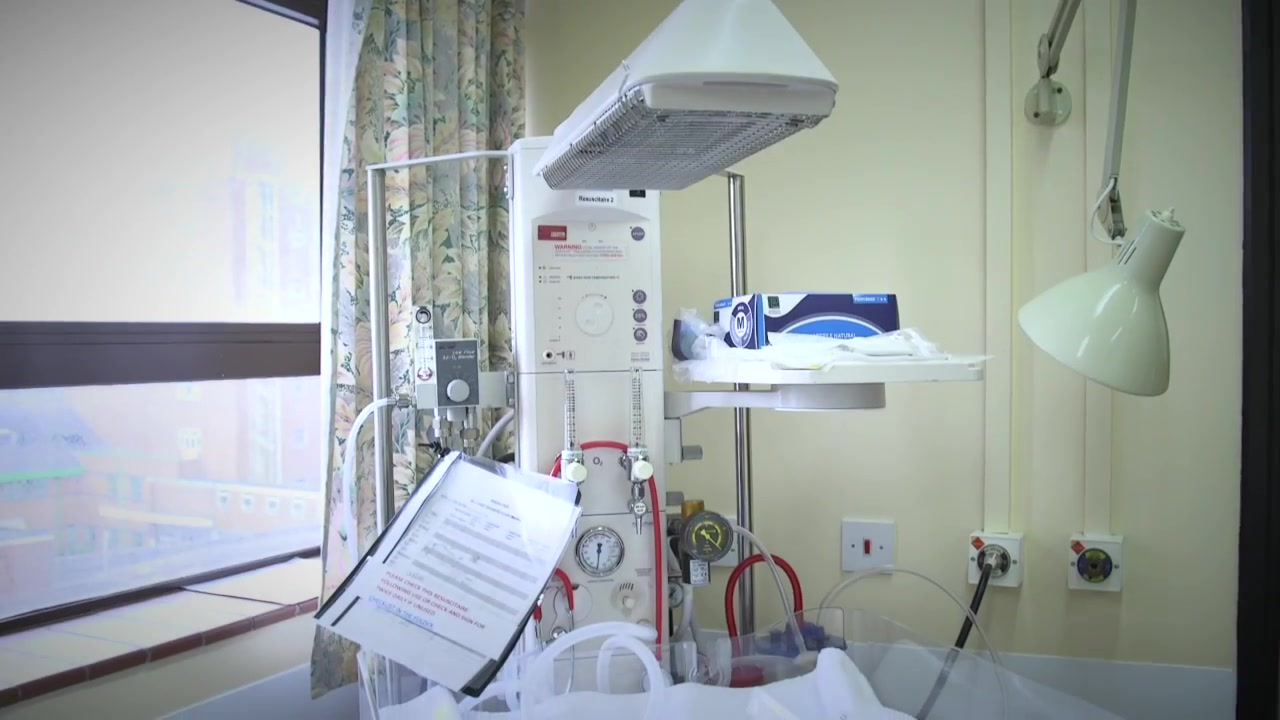breathing_tube: (444, 617, 666, 720)
curtain: (312, 1, 528, 692)
panda_baby_warmer: (371, 1, 1240, 720)
